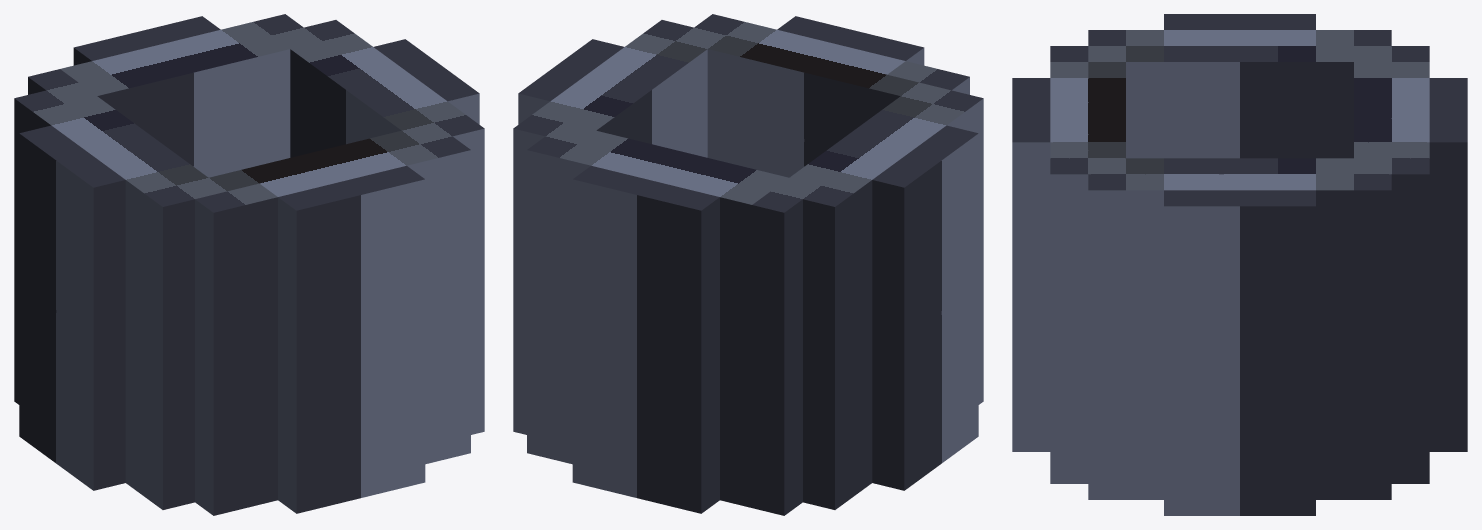
The model's file is light_floor_empty.glb.
The picture shows the model from 3 angles, left to right: view 1: azimuth 30°, elevation 25°; view 2: azimuth 150°, elevation 25°; view 3: azimuth 270°, elevation 25°; orthographic projection. The views are drawn at different scales.
Visible parts, largest first — view 1: Recessed_Housing; view 2: Recessed_Housing; view 3: Recessed_Housing.
Part boxes in pixels (x1=…): Recessed_Housing: x1=14, y1=14, x2=484, y2=515; Recessed_Housing: x1=513, y1=14, x2=983, y2=515; Recessed_Housing: x1=1012, y1=14, x2=1467, y2=515.
Bounding box in the file's own units: 0.3375 × 0.2531 × 0.3375.
Materials: 1 (1 with a texture image).
